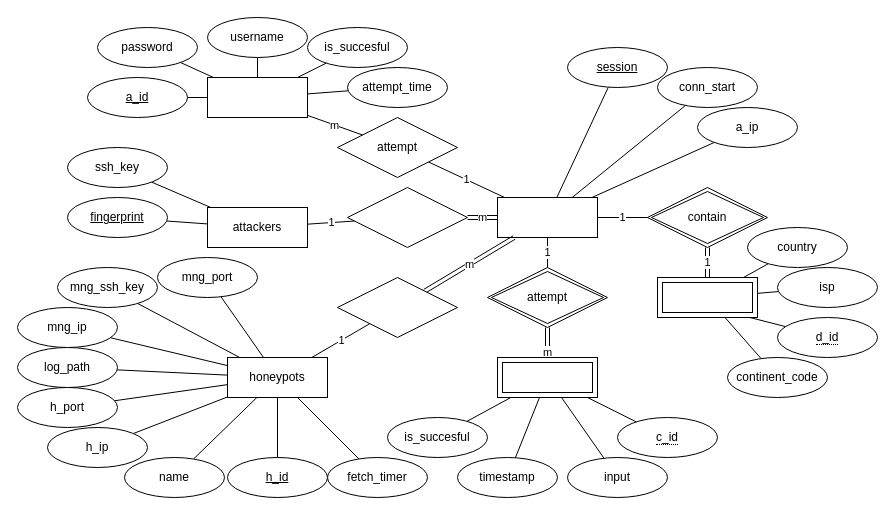
This 895x515 diagram has some shape labels left out. The shapes that lost their labels are listed below. From the top down, each one's centre as x and y in pixels, then its label:
At (x=257, y=97): "authorizations".
At (x=407, y=217): "create".
At (x=547, y=217): "sessions".
At (x=397, y=307): "access".
At (x=707, y=297): "more_info".
At (x=547, y=377): "commands".
